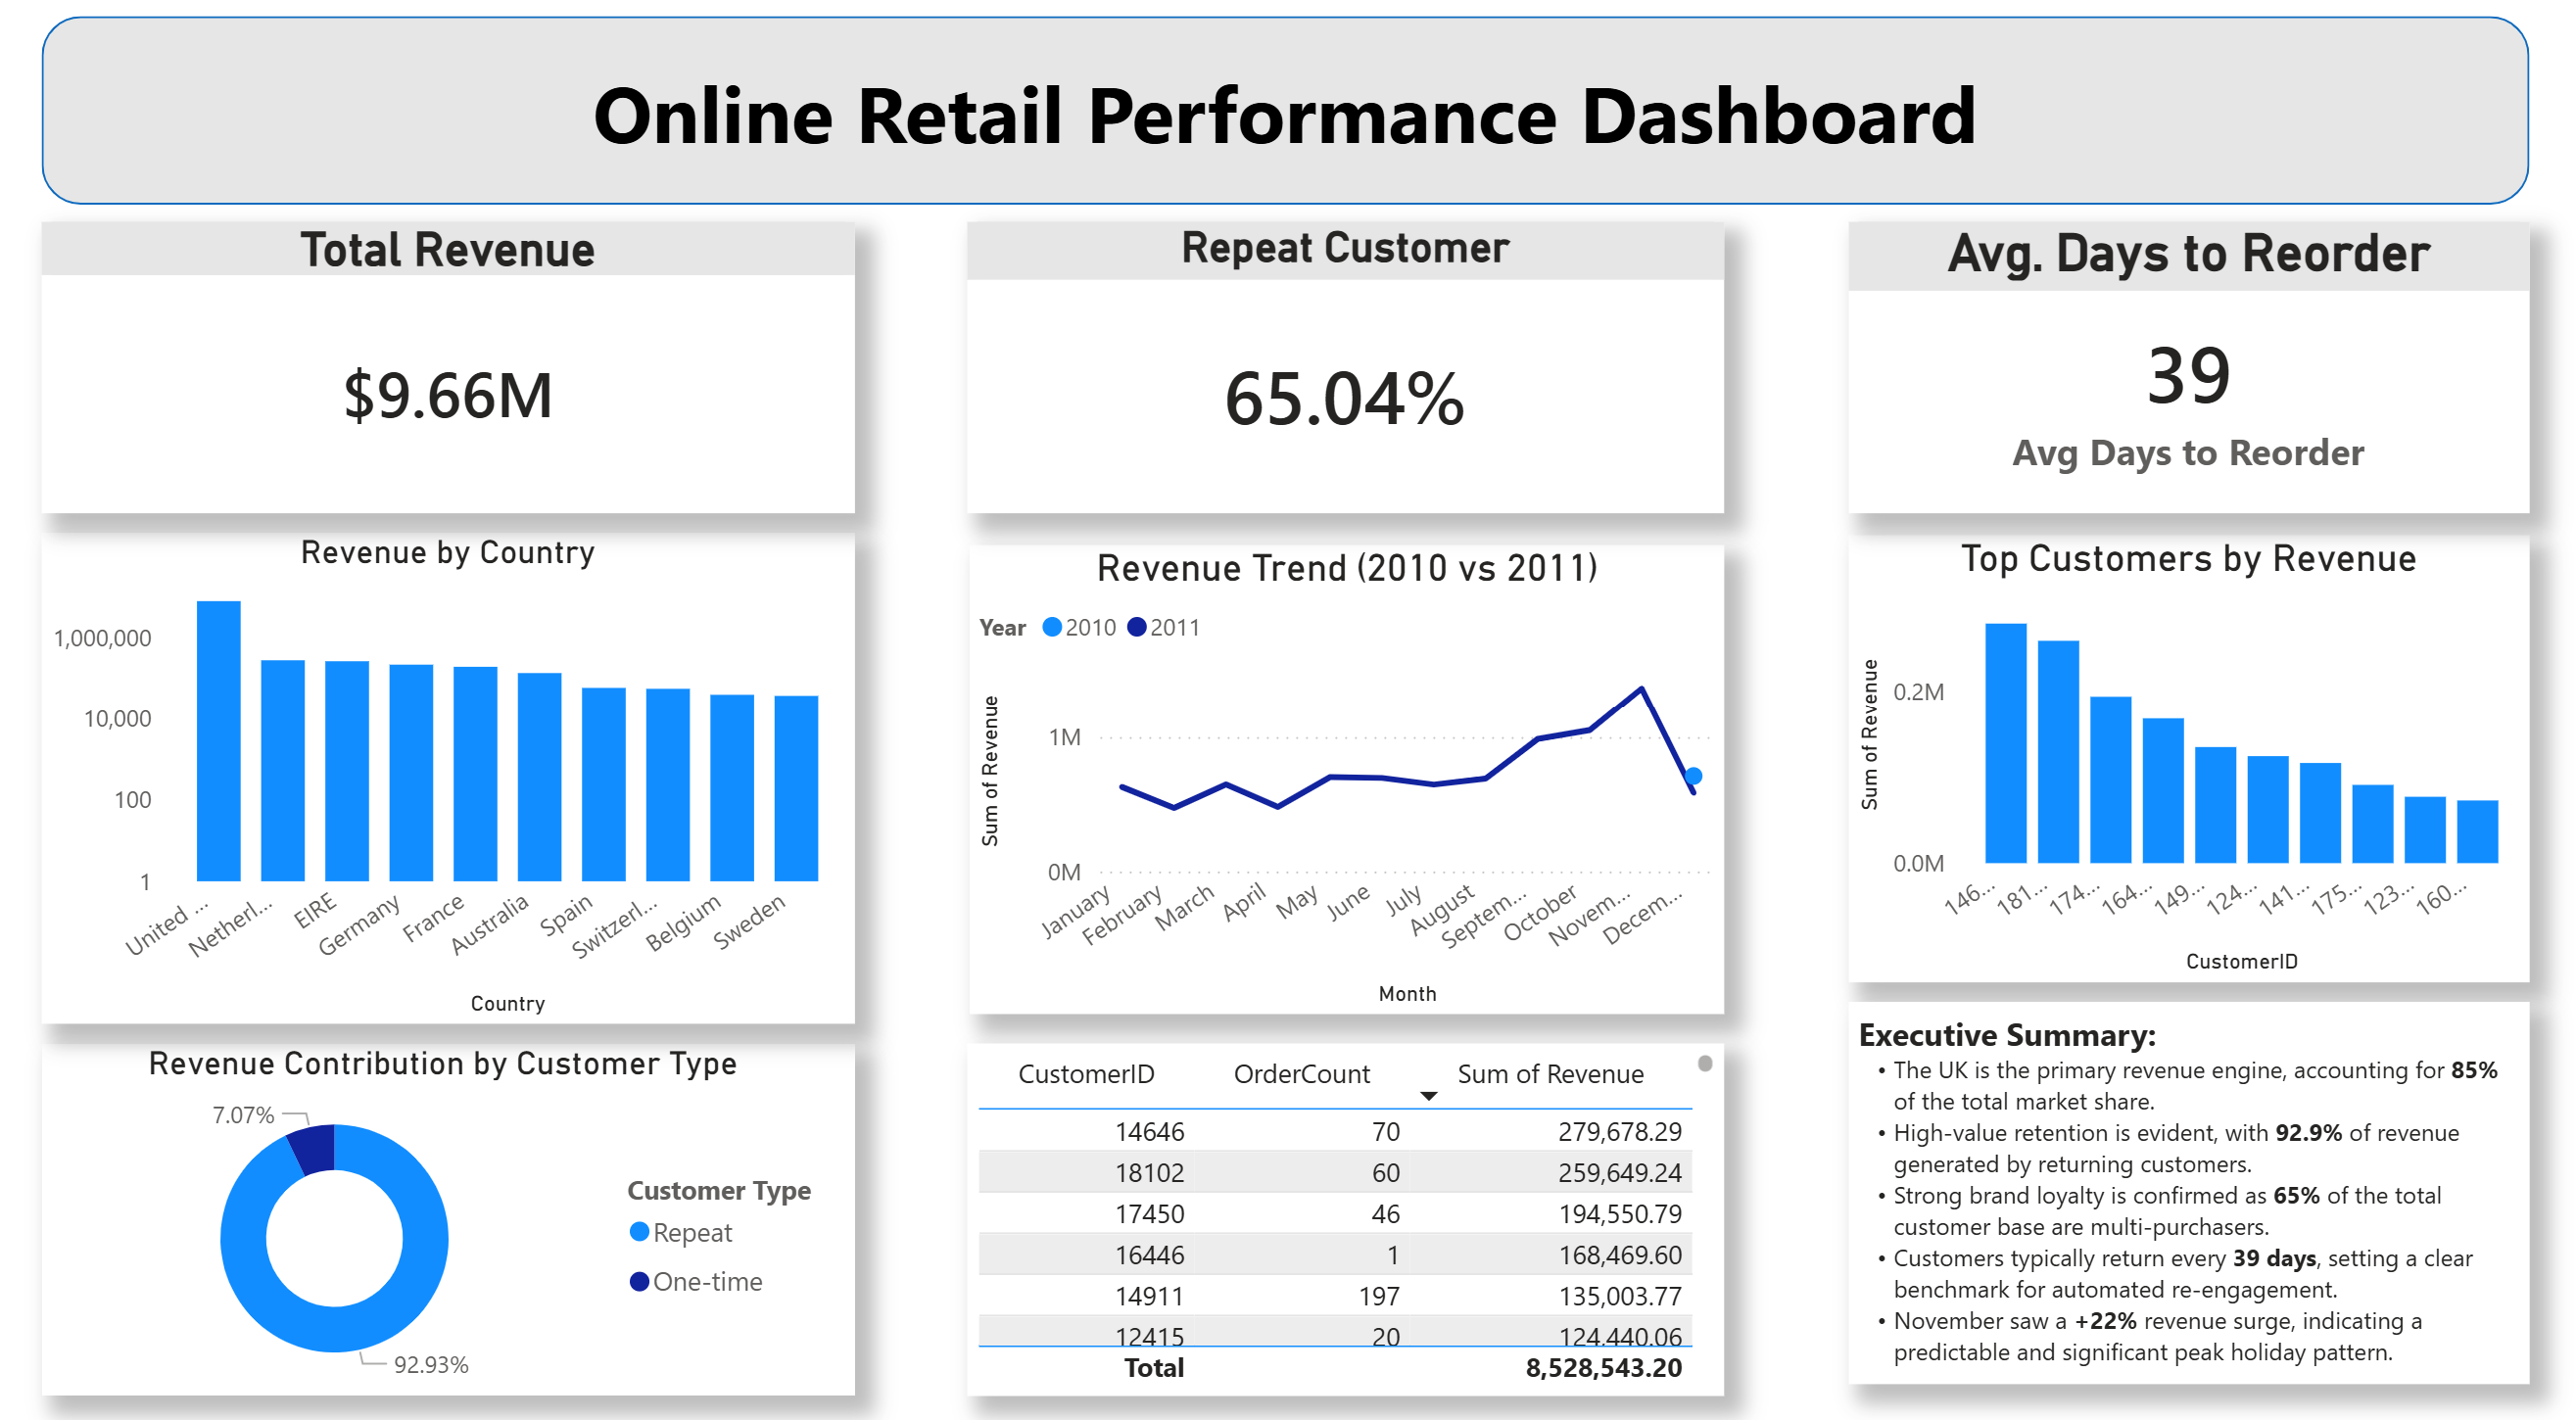

The page's visual inventory and layout, read from the dashboard file:
{"tool":"powerbi","page":{"name":"Page 1","canvas":[1320,740],"ordinal":0},"visuals":[{"type":"clusteredColumnChart","title":"Revenue by Country","fields":{"Category":["Online Retail.Country"],"Y":["Sum(Online Retail.Revenue)"]},"box":[21.2,272.5,415,251.2],"z":0},{"type":"lineChart","title":"Revenue Trend (2010 vs 2011)","fields":{"Category":["Online Retail.InvoiceDate.Variation.Date Hierarchy.Month"],"Y":["Sum(Online Retail.Revenue)"],"Series":["Online Retail.InvoiceDate.Variation.Date Hierarchy.Year"]},"box":[495,278.1,385,240],"z":1000},{"type":"clusteredColumnChart","title":"Top Customers by Revenue","fields":{"Y":["Sum(Online Retail.Revenue)"],"Category":["Online Retail.CustomerID"]},"box":[943.8,273.1,347.5,228.8],"z":2000},{"type":"cardVisual","title":"Avg. Days to Reorder","fields":{"Data":["Online Retail.Avg Days to Reorder"]},"box":[943.8,113.8,347.5,148.8],"z":3000},{"type":"tableEx","fields":{"Values":["Online Retail.CustomerID","Online Retail.OrderCount","Sum(Online Retail.Revenue)"]},"box":[493.8,533.8,386.2,180],"z":4000},{"type":"cardVisual","title":"Total Revenue","fields":{"Data":["Sum(Online Retail.Revenue)"]},"box":[21.2,113.8,415,148.8],"z":5000},{"type":"cardVisual","title":"Repeat Customer ","fields":{"Data":["Online Retail.Repeat Customer %"]},"box":[493.8,113.8,386.2,148.8],"z":6000},{"type":"shape","box":[21.2,8.8,1270,96.2],"z":7000},{"type":"donutChart","title":"Revenue Contribution by Customer Type","fields":{"Category":["Online Retail.Customer Type"],"Y":["CountNonNull(Online Retail.Customer Type)"]},"box":[21.2,533.8,415,180],"z":8000},{"type":"textbox","box":[943.8,512.5,347.5,195],"z":9000}]}

Visuals, with their boxes in screenshot pixels (x1, y1, x2, y2), scaled from the page's 1320x740 canvas onto the 2576x1420 screenshot:
"Revenue by Country" clusteredColumnChart: <box>41,523,851,1005</box>
"Revenue Trend (2010 vs 2011)" lineChart: <box>966,534,1717,994</box>
"Top Customers by Revenue" clusteredColumnChart: <box>1841,524,2520,963</box>
"Avg. Days to Reorder" cardVisual: <box>1841,218,2520,504</box>
tableEx - Online Retail.CustomerID x Online Retail.OrderCount: <box>964,1024,1717,1370</box>
"Total Revenue" cardVisual: <box>41,218,851,504</box>
"Repeat Customer " cardVisual: <box>964,218,1717,504</box>
shape: <box>41,17,2520,202</box>
"Revenue Contribution by Customer Type" donutChart: <box>41,1024,851,1370</box>
textbox: <box>1841,983,2520,1357</box>
